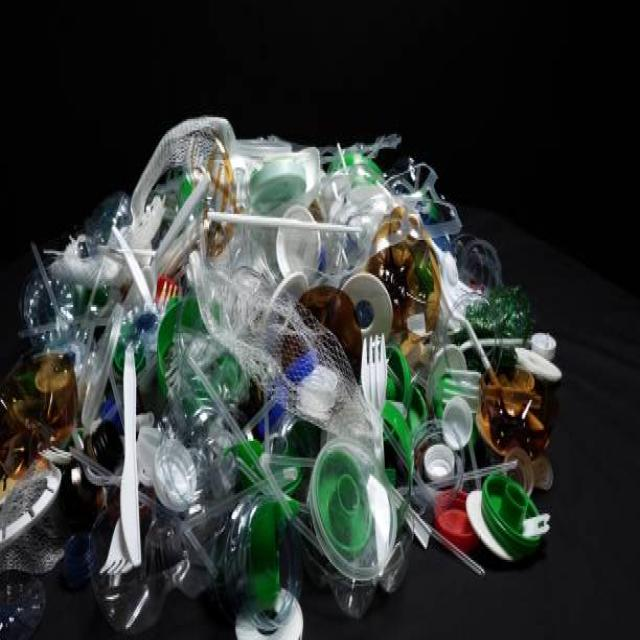plastic: (39, 164, 538, 550)
